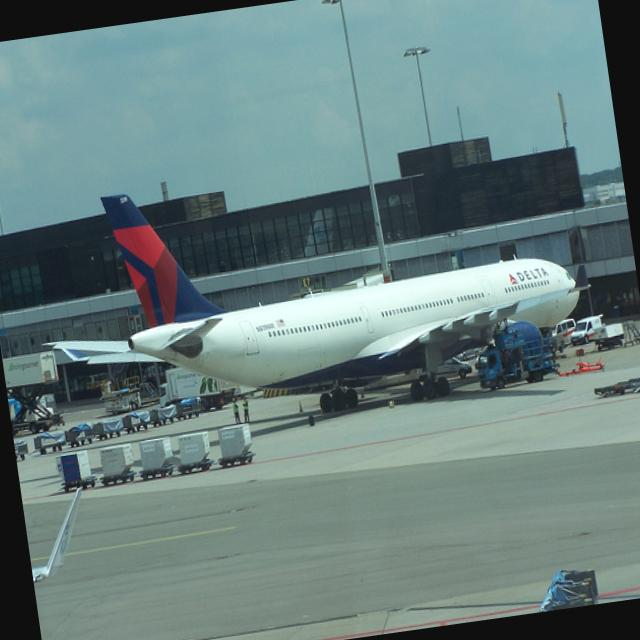Vehicle: (472, 311, 608, 394), (154, 360, 241, 418), (417, 354, 475, 386), (568, 314, 606, 345), (550, 317, 580, 353), (456, 348, 480, 362)
